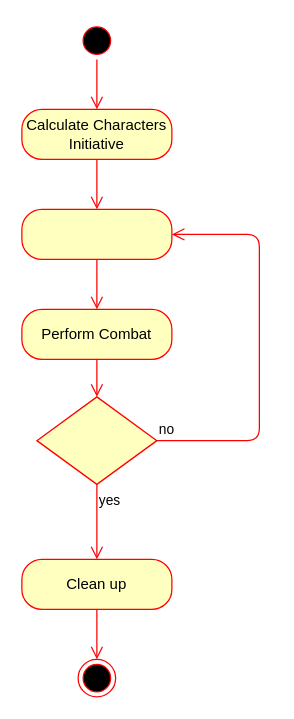
Image size: 294x719. Some labels were removed from this diagram. The centre of each missing label's shape, as x and y in pixels:
"Is Game Over?" goes at [96,440].
"Set Active Character" goes at [96,233].
